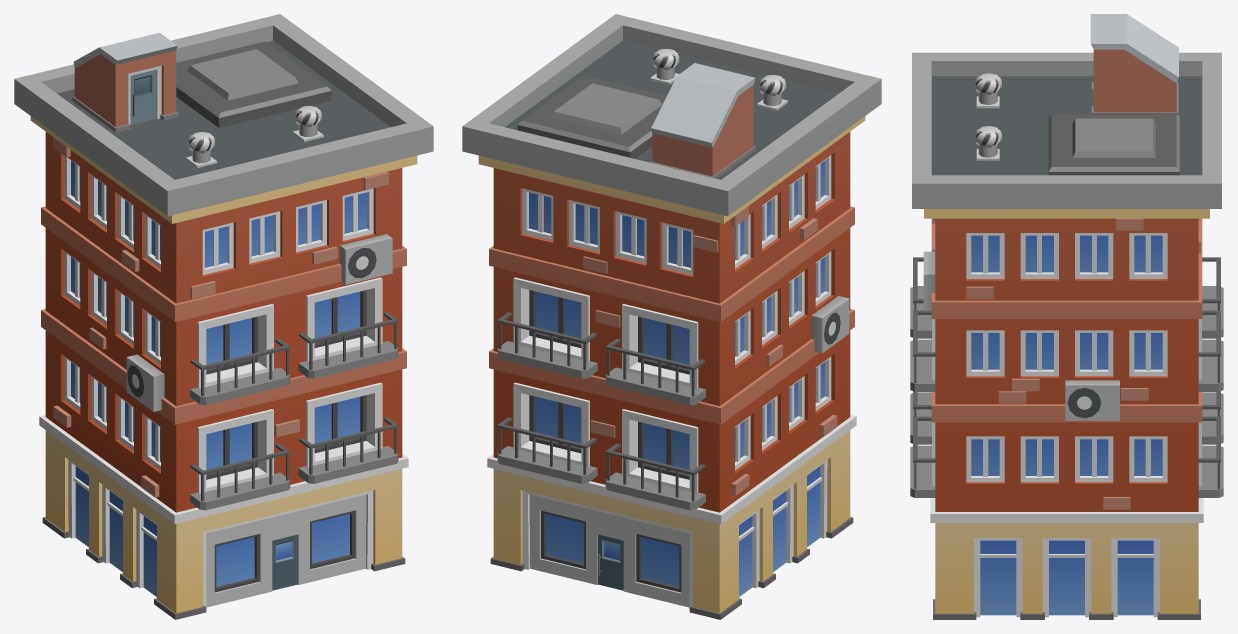
The model's file is residental_building_001.glb.
3 renders of one model, left to right at view 1: azimuth 30°, elevation 25°; view 2: azimuth 150°, elevation 25°; view 3: azimuth 270°, elevation 25°, orthographic.
Parts seen in each view (by area): view 1: residental_building_001; view 2: residental_building_001; view 3: residental_building_001.
Part boxes in pixels (<box>): residental_building_001: <box>14,14,433,619</box>; residental_building_001: <box>462,14,881,619</box>; residental_building_001: <box>910,14,1223,619</box>.
Size of the model in its own units: 12.05 by 21.55 by 12.17.
Materials: 1 (1 with a texture image).
